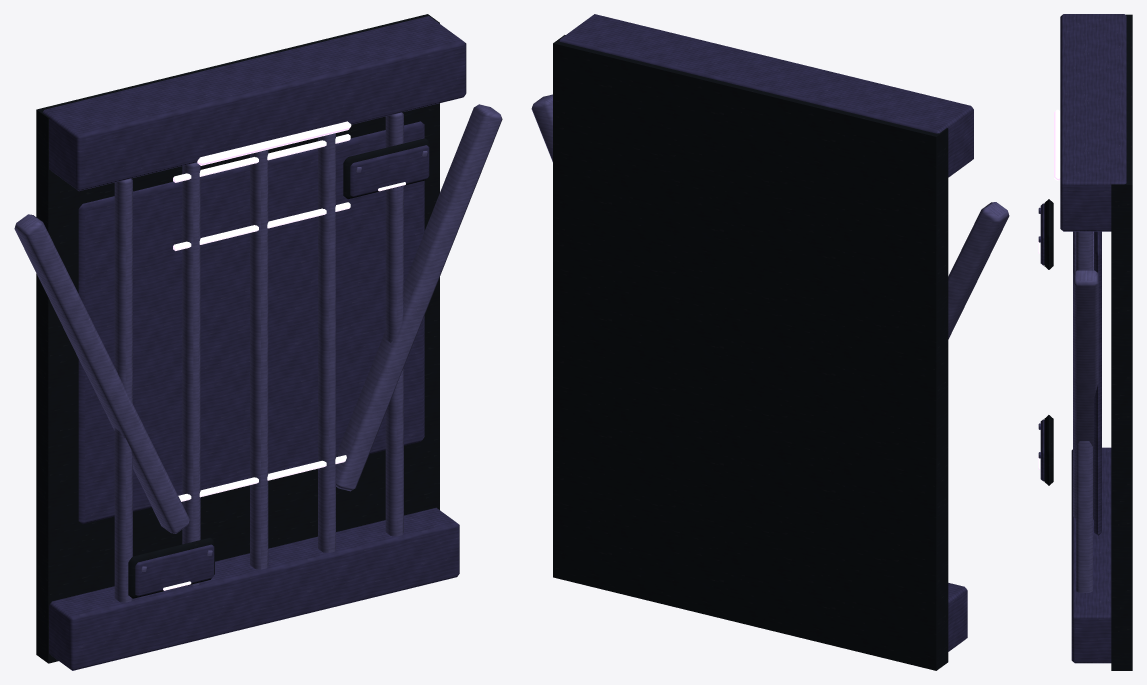
Rendered from orbital_array_room.glb.
3 renders of one model, left to right at view 1: azimuth 30°, elevation 25°; view 2: azimuth 150°, elevation 25°; view 3: azimuth 270°, elevation 25°, orthographic. The views are drawn at different scales.
Parts seen in each view (by area): view 1: orbital_array_room - orbital_array panels, orbital_array_room - orbital_array trim, orbital_array_room - Recessed iron, orbital_array_room - orbital_array accents; view 2: orbital_array_room - Recessed iron, orbital_array_room - orbital_array panels, orbital_array_room - orbital_array trim; view 3: orbital_array_room - orbital_array panels, orbital_array_room - Recessed iron, orbital_array_room - orbital_array trim, orbital_array_room - orbital_array accents.
Boxes of the visible parts, x1,y1,x2,y2 form: orbital_array_room - orbital_array panels: [42, 16, 466, 670]; orbital_array_room - orbital_array trim: [14, 104, 502, 602]; orbital_array_room - Recessed iron: [36, 14, 439, 663]; orbital_array_room - orbital_array accents: [163, 121, 405, 590]; orbital_array_room - Recessed iron: [553, 35, 948, 670]; orbital_array_room - orbital_array panels: [559, 14, 973, 651]; orbital_array_room - orbital_array trim: [531, 94, 1009, 339]; orbital_array_room - orbital_array panels: [1040, 14, 1126, 663]; orbital_array_room - Recessed iron: [1044, 14, 1132, 670]; orbital_array_room - orbital_array trim: [1038, 207, 1098, 592]; orbital_array_room - orbital_array accents: [1038, 109, 1060, 469].
Size of the model in its own units: 7.34 by 8.03 by 1.41.
4 materials, 3 textured.
